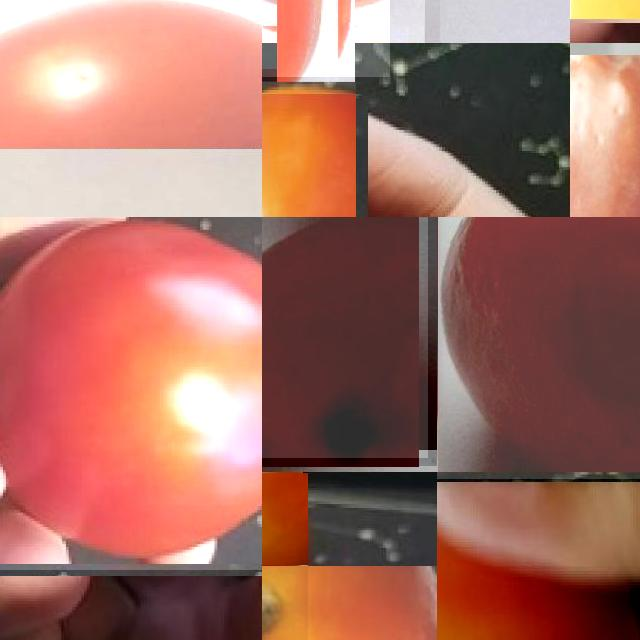0: (0, 217, 262, 570), (0, 0, 262, 149)
Fresh Tomato: (437, 479, 640, 640), (262, 0, 389, 77), (262, 472, 308, 640)
Rotten Tomato: (437, 217, 640, 472), (262, 217, 428, 458)
